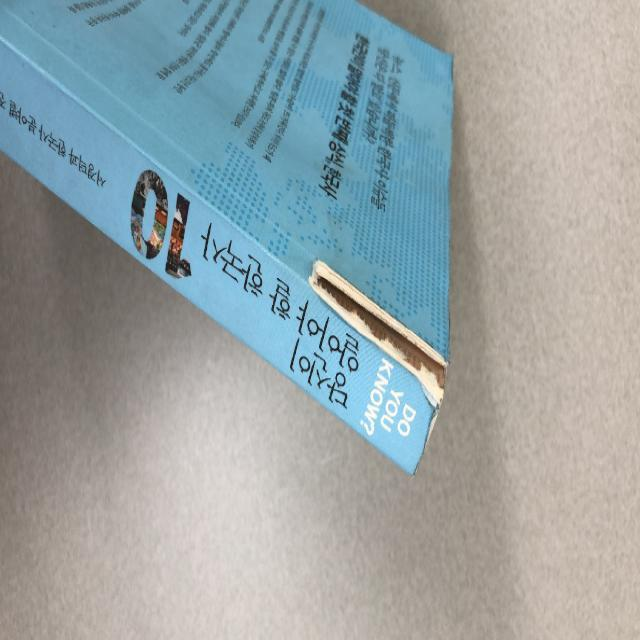Ripped: (303, 255, 450, 410)
Wornout: (409, 400, 445, 482)
